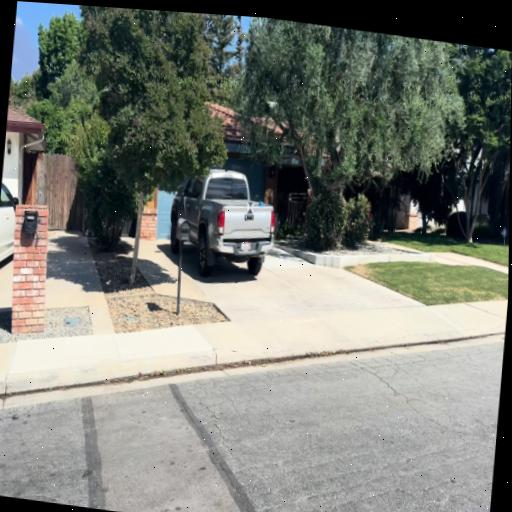target1: (247, 201, 254, 214)
